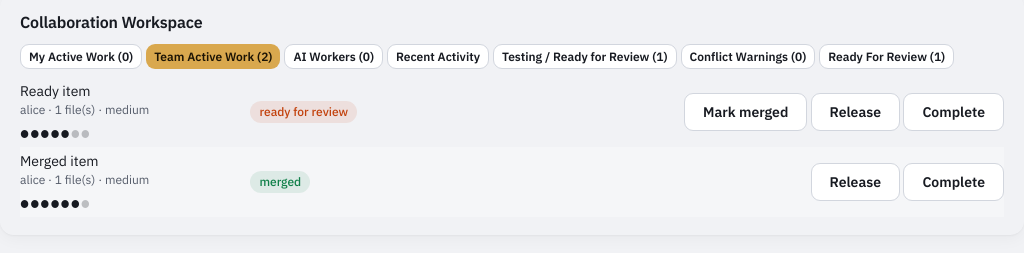
Test: CollaborationWorkspace › Ready For Review shows only that status
Expected: the text "Ready item" is shown, [20,82,91,100]
Click the button "Ready For Review (1)" at (887, 56), box [819,44,954,69]
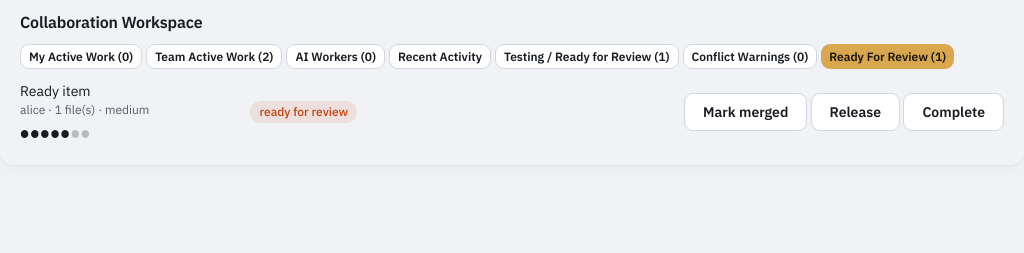
Expected: the text "Ready item" is shown, [20,82,91,100]
Now the text "Merged item" is gone
